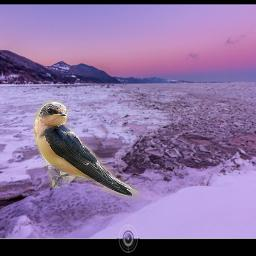Swallow: (33, 96, 143, 201)
